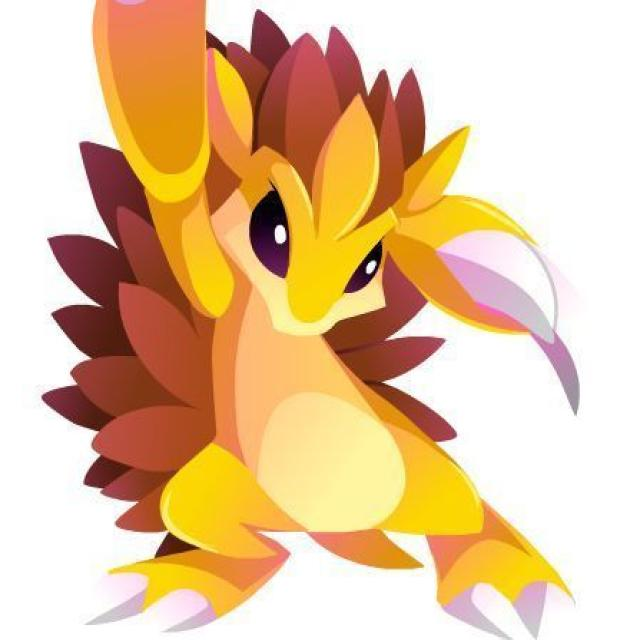Sandslash: (26, 60, 568, 640)
